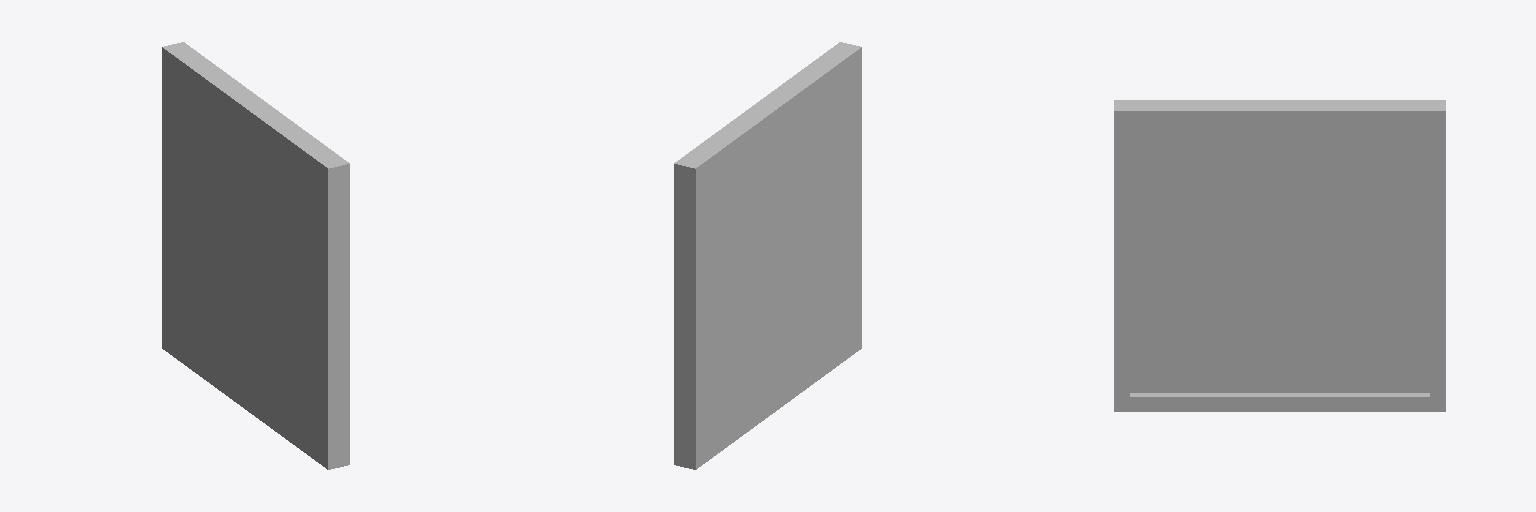
Rendered from window.obj.
3 renders of one model, left to right at view 1: azimuth 30°, elevation 25°; view 2: azimuth 150°, elevation 25°; view 3: azimuth 270°, elevation 25°, orthographic.
Visible parts, largest first — view 1: window; view 2: window; view 3: window.
Boxes of the visible parts, x1=… form: window: x1=162, y1=42, x2=349, y2=469; window: x1=674, y1=42, x2=861, y2=469; window: x1=1114, y1=100, x2=1445, y2=411.
Size of the model in its own units: 3 by 40 by 40.